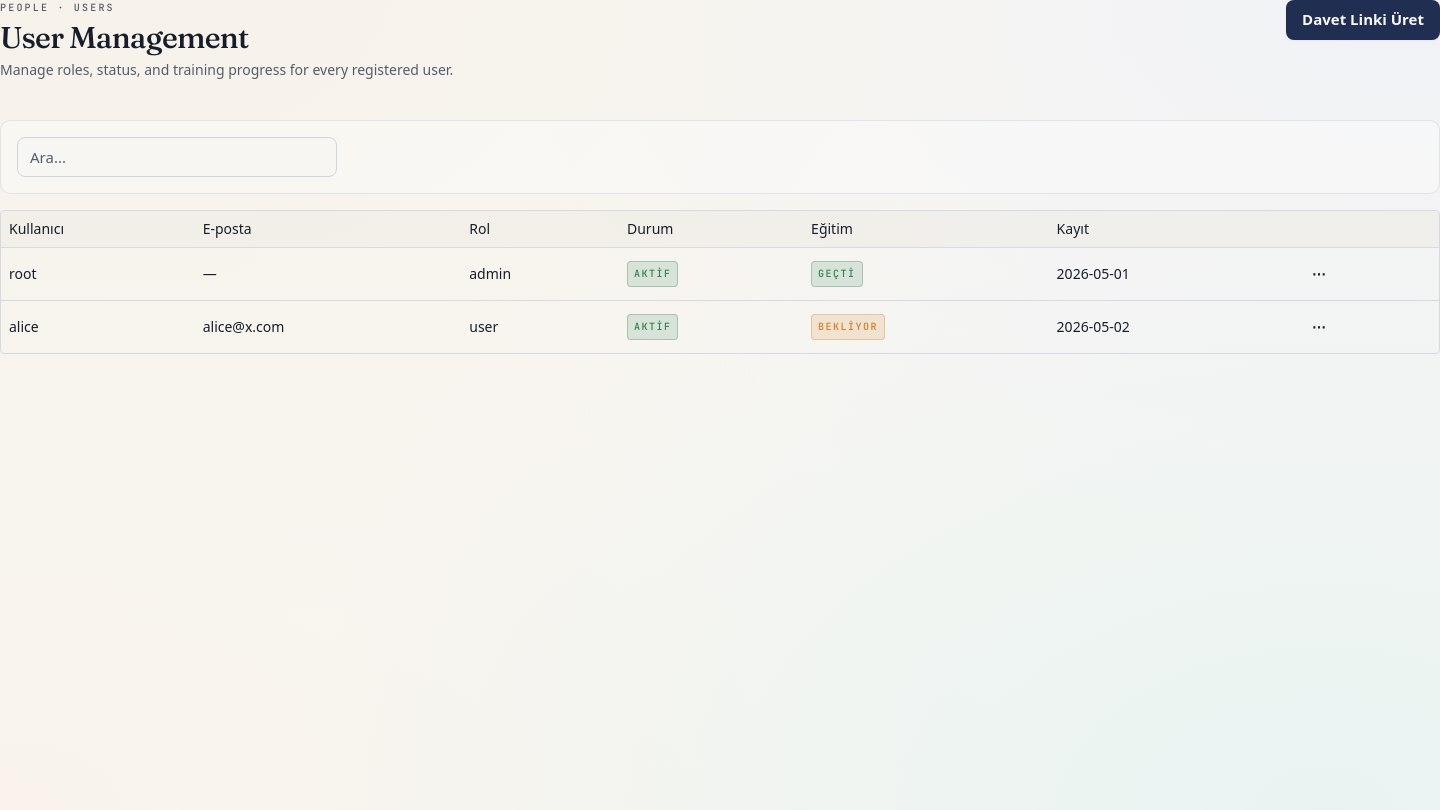
Scenario: UsersPage › invite rotate shows new code in dialog
Expected: the text "alice" is shown, [1,300,195,352]
Click the button "Davet Linki Üret": (1363, 20) [1286,0,1439,40]
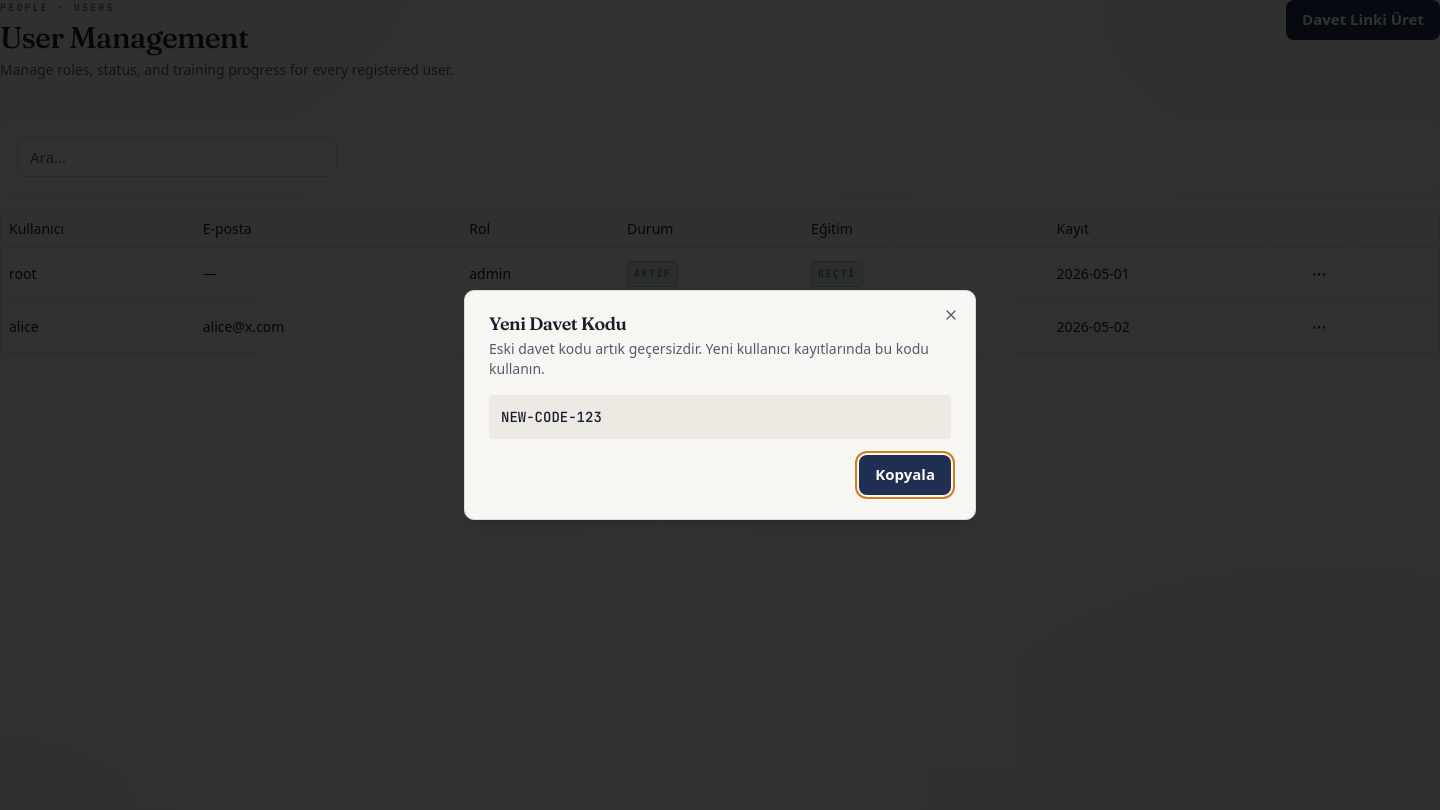
Expected: the text "NEW-CODE-123" is shown, [489,395,951,439]
